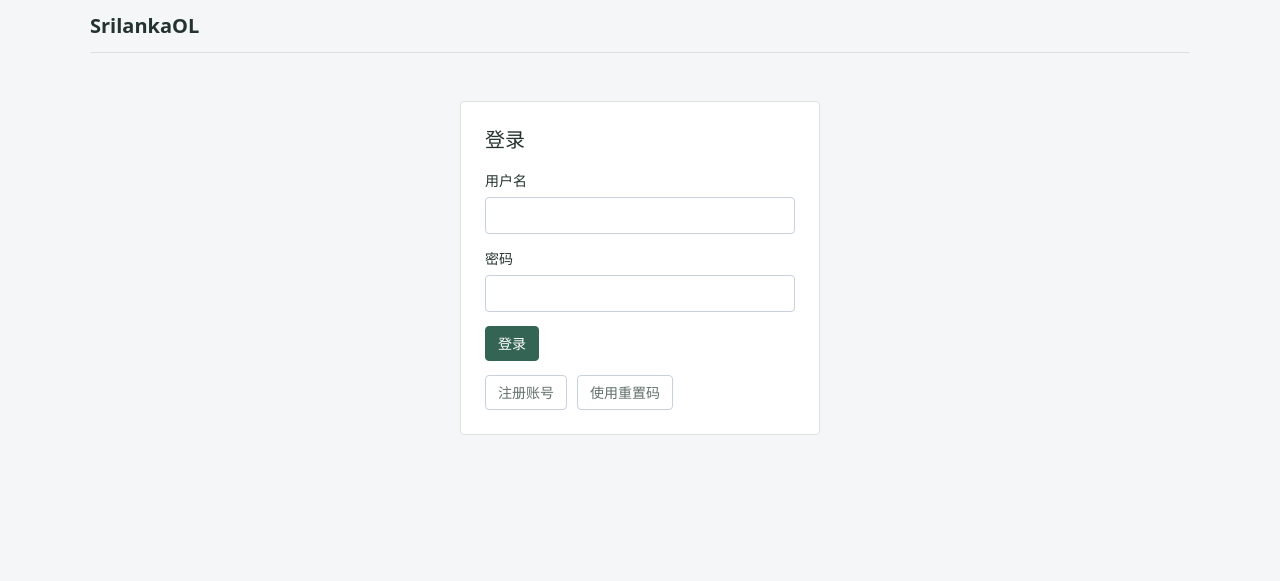
Test: App › registers a new user from the login panel
Click the button "注册账号".
click(526, 392)  # box [485,375,567,410]
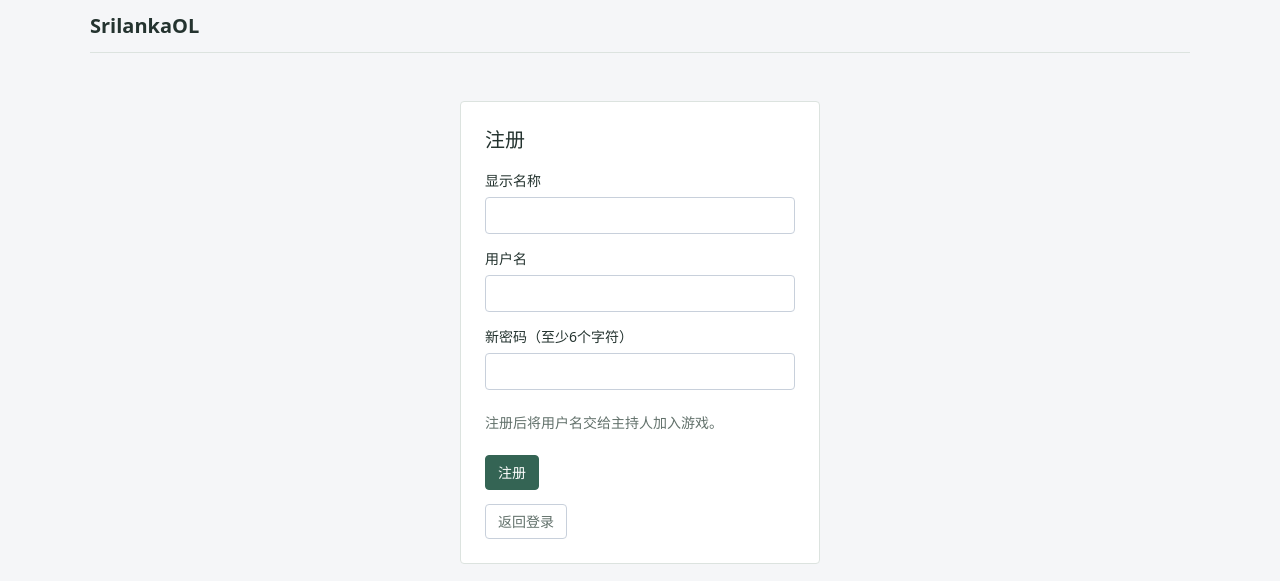
Type "New Player" into the field labelled "显示名称".
click(640, 216); type("New Player")  # box [485,197,795,234]
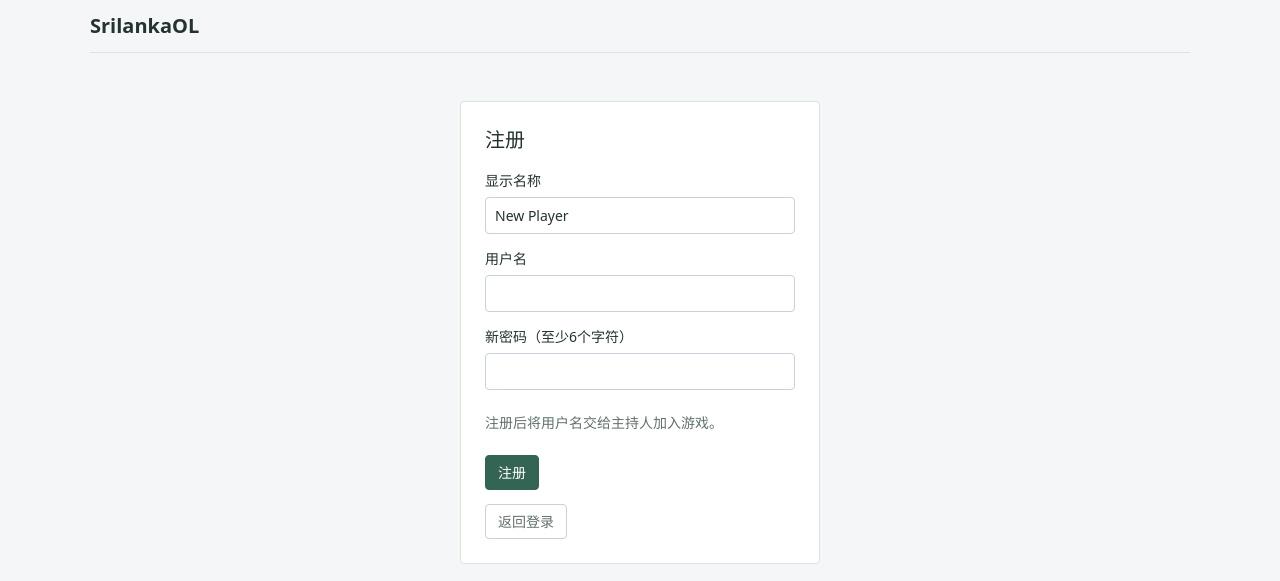
Type "new-player" into the field labelled "用户名".
click(640, 294); type("new-player")  # box [485,275,795,312]
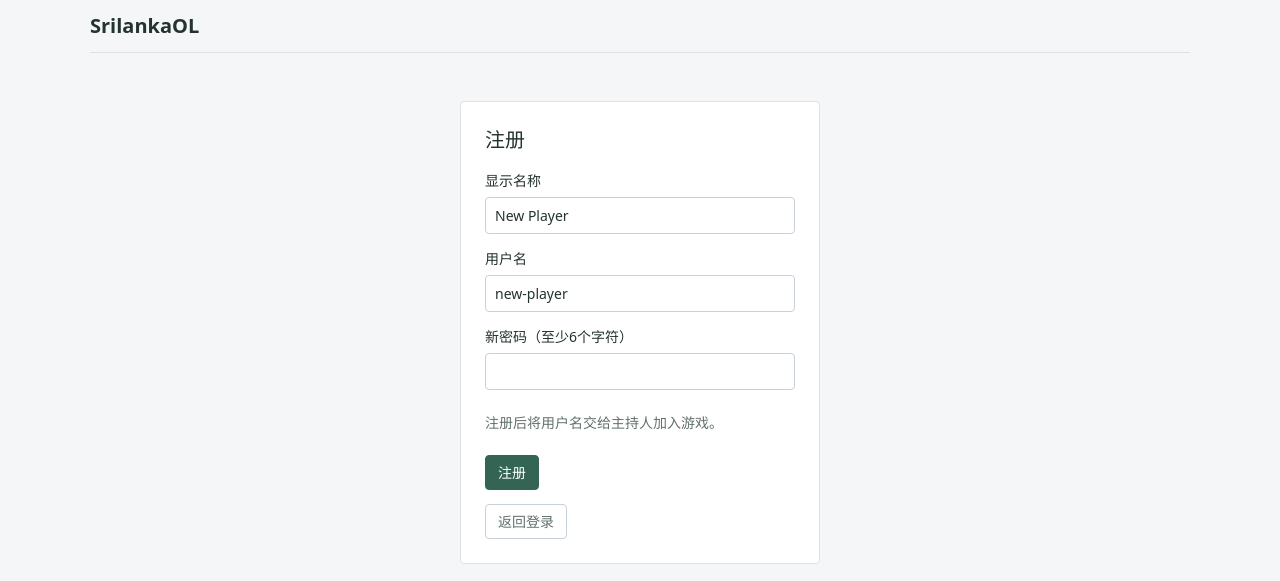
Type "new-player-password" into the password field labelled "新密码（至少6个字符）".
click(640, 372); type("new-player-password")  # box [485,353,795,390]
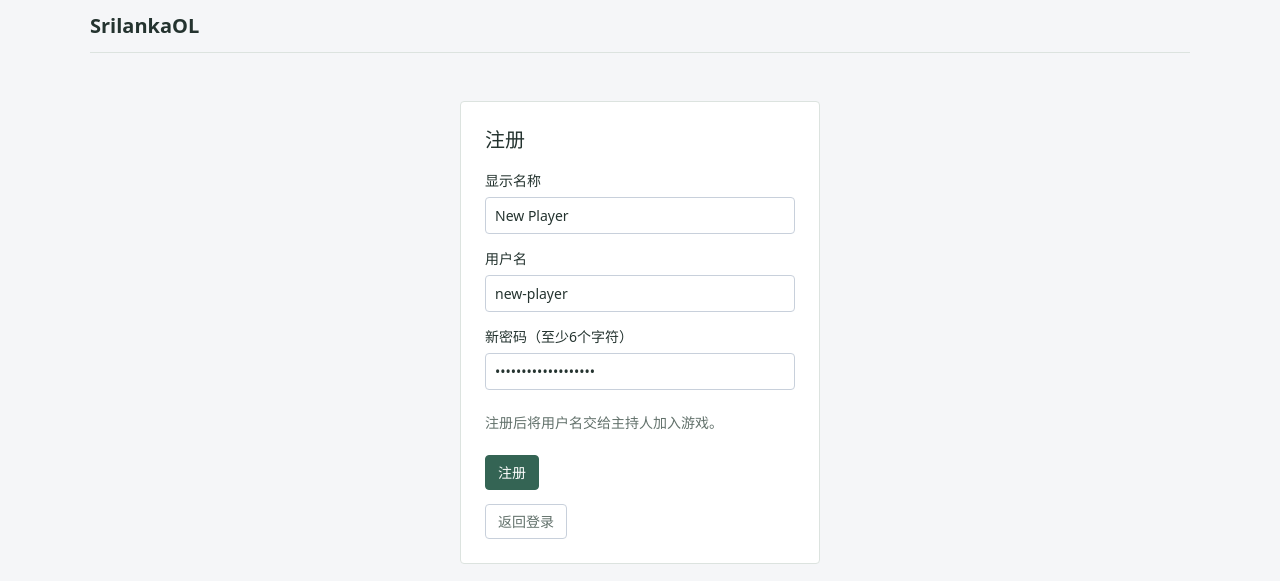
Click the button "注册".
click(512, 472)  # box [485,455,539,490]
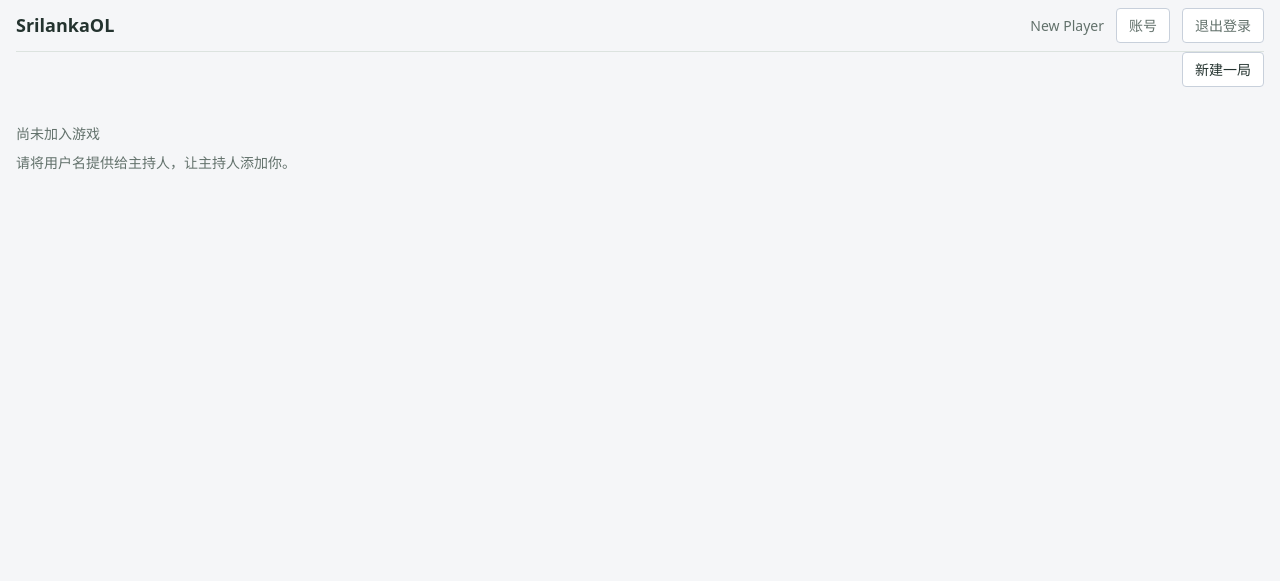
Expected: the text "New Player" is shown, [1030,15,1104,36]
Expected: the text "尚未加入游戏" is shown, [16,124,100,143]
